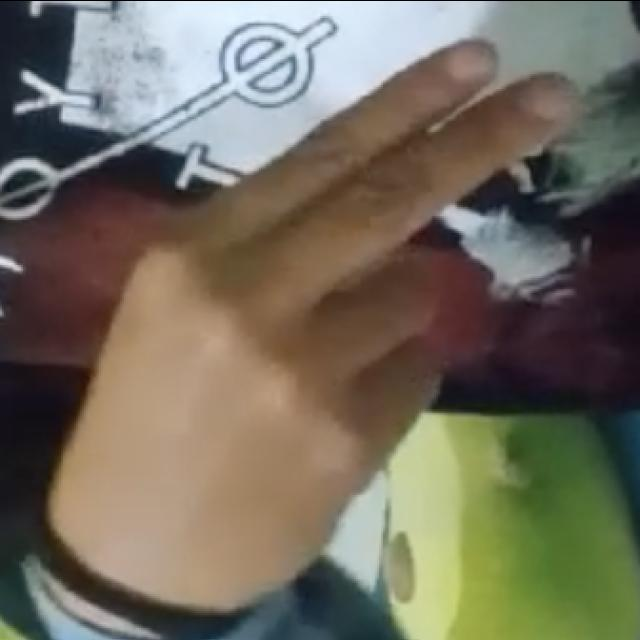N: (35, 30, 593, 604)
